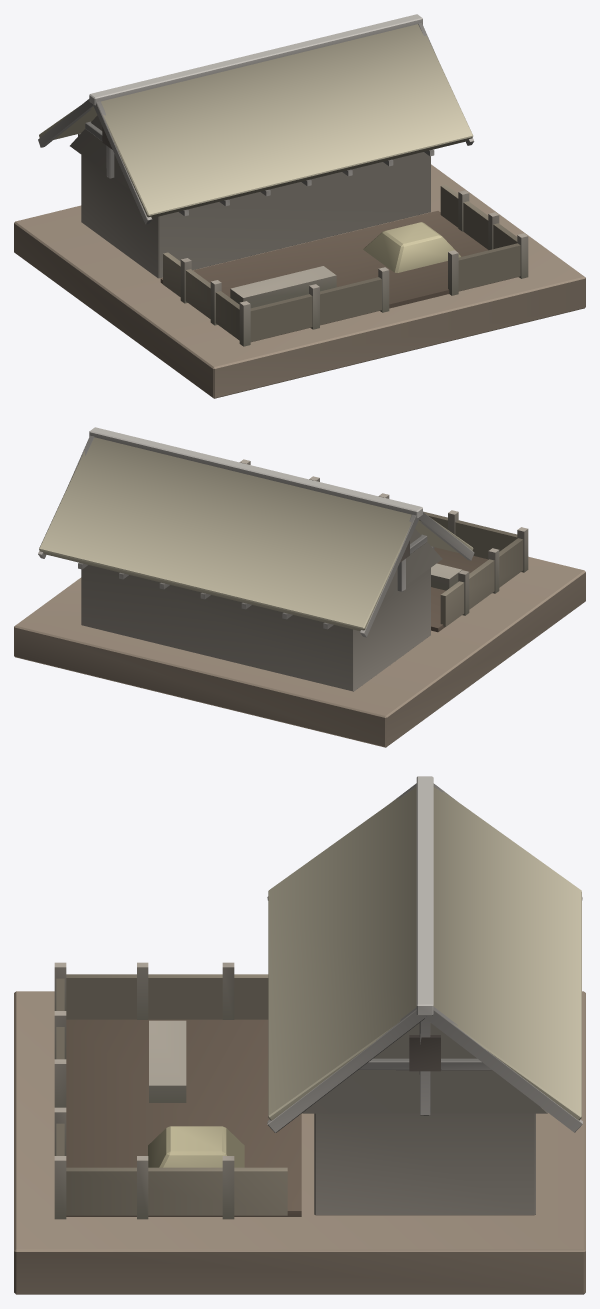
Rendered from pig_farm_l1_lod0.glb.
3 renders of one model, top to bottom at view 1: azimuth 30°, elevation 25°; view 2: azimuth 150°, elevation 25°; view 3: azimuth 270°, elevation 25°, orthographic. The views are drawn at different scales.
Parts seen in each view (by area): view 1: pig_farm_l1_lod0; view 2: pig_farm_l1_lod0; view 3: pig_farm_l1_lod0.
Boxes of the visible parts, x1,y1,x2,y2 form: pig_farm_l1_lod0: (14,14,585,398); pig_farm_l1_lod0: (14,427,585,747); pig_farm_l1_lod0: (14,776,585,1294).
Bounding box in the file's own units: 8.6 × 4.25 × 8.
